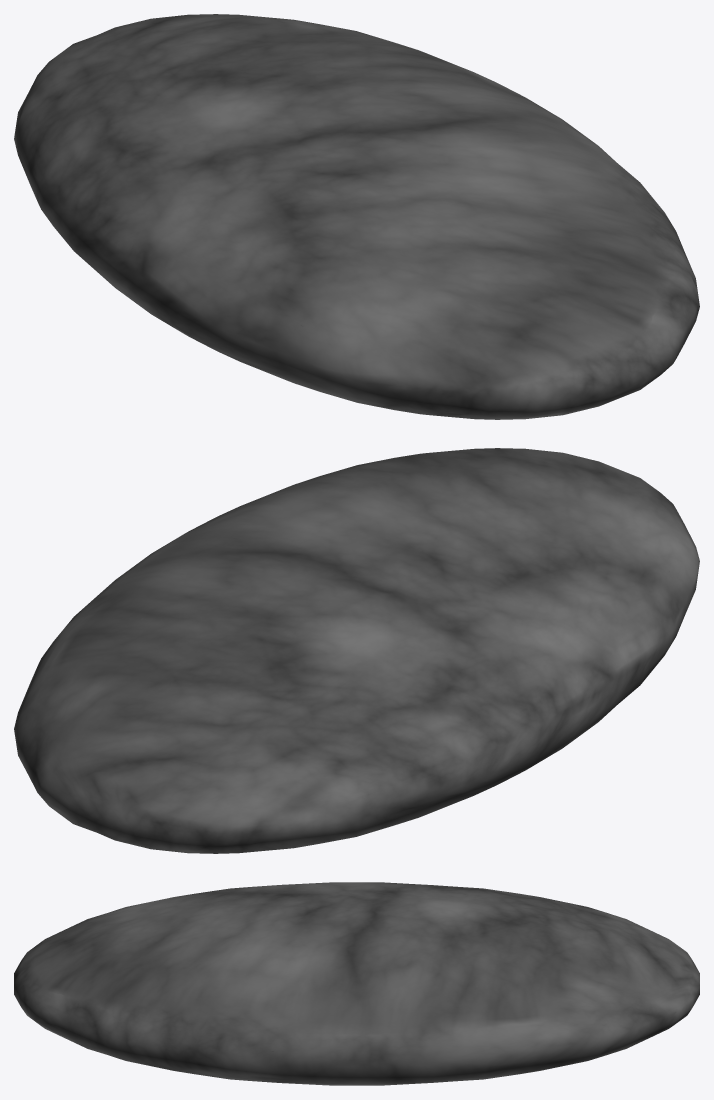
The model's file is Stein.fbx.
3 renders of one model, top to bottom at view 1: azimuth 30°, elevation 25°; view 2: azimuth 150°, elevation 25°; view 3: azimuth 270°, elevation 25°, orthographic. The views are drawn at different scales.
Parts seen in each view (by area): view 1: Sphere; view 2: Sphere; view 3: Sphere.
Boxes of the visible parts, x1,y1,x2,y2 form: Sphere: [14, 14, 699, 419]; Sphere: [14, 448, 699, 853]; Sphere: [14, 882, 699, 1085].
Size of the model in its own units: 131 by 41.9 by 228.
Materials: 1 (1 with a texture image).
